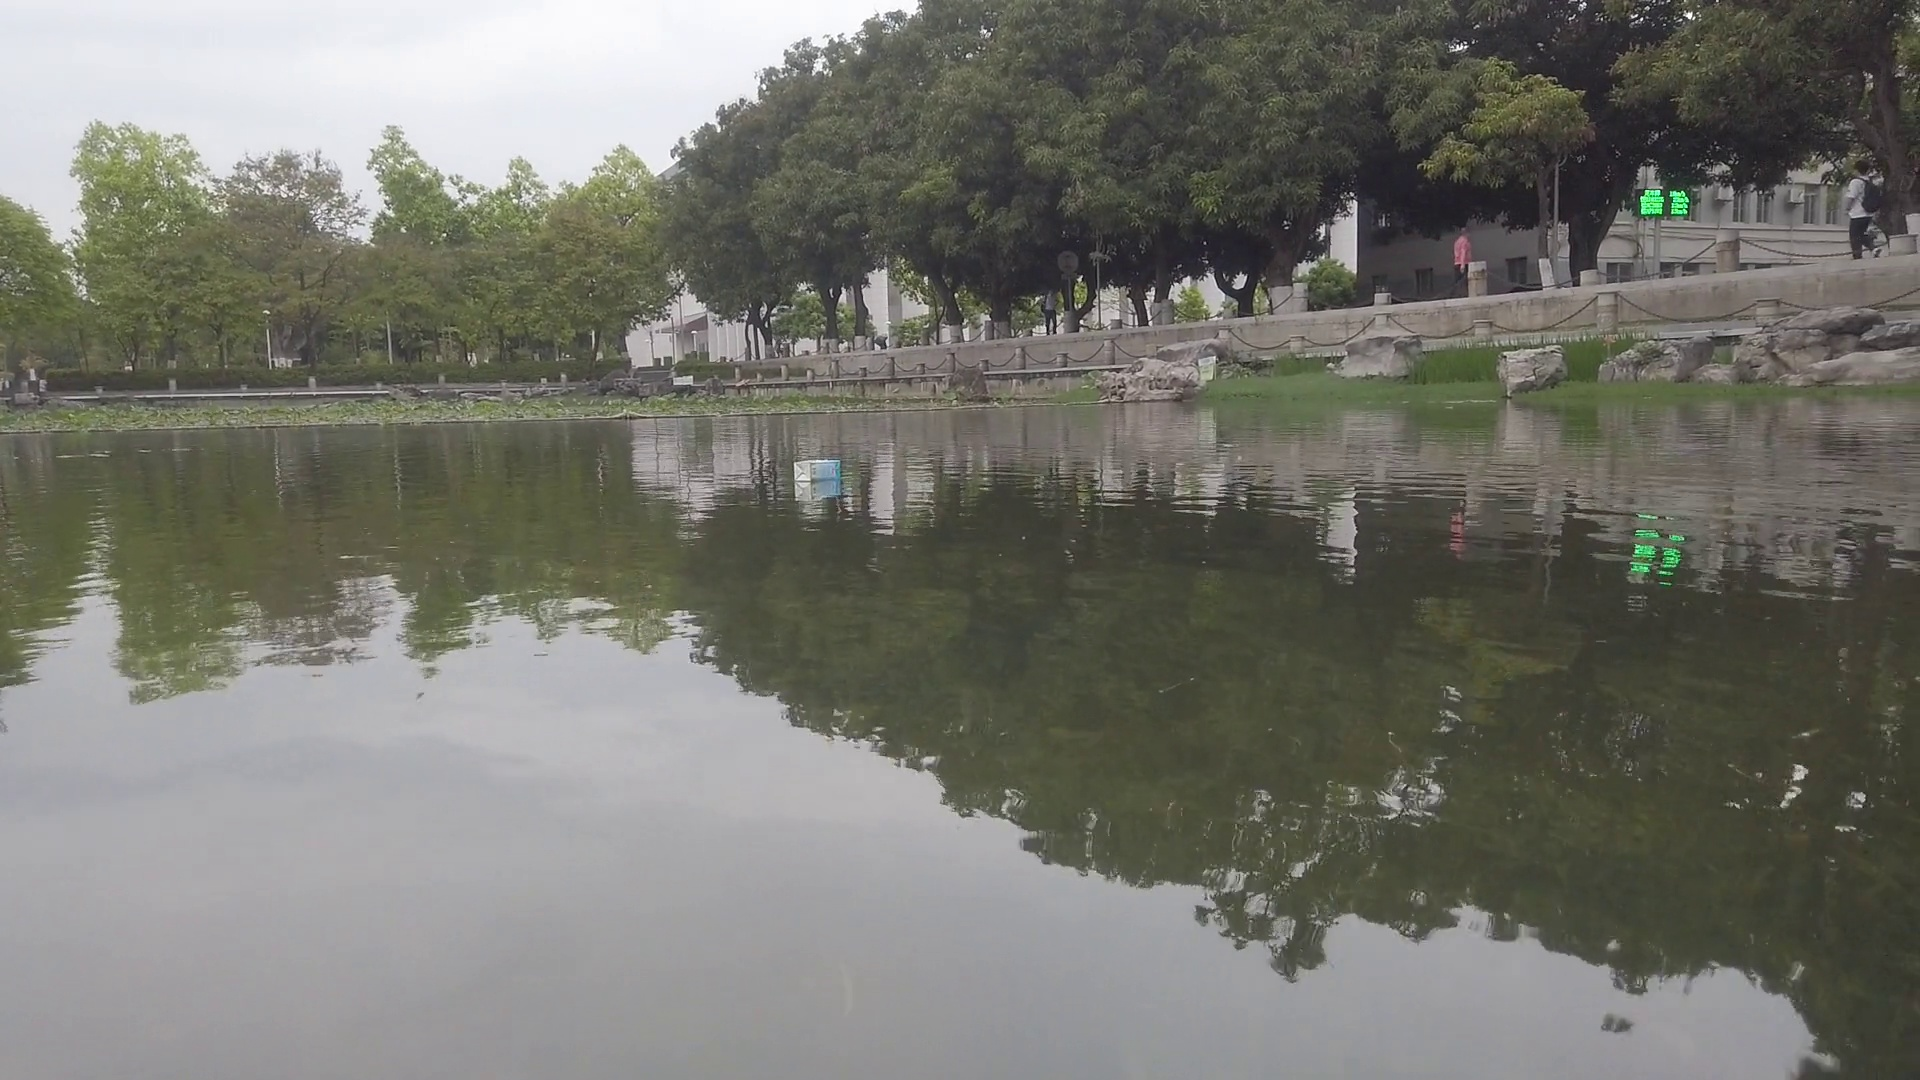carton: (793, 460, 841, 480)
